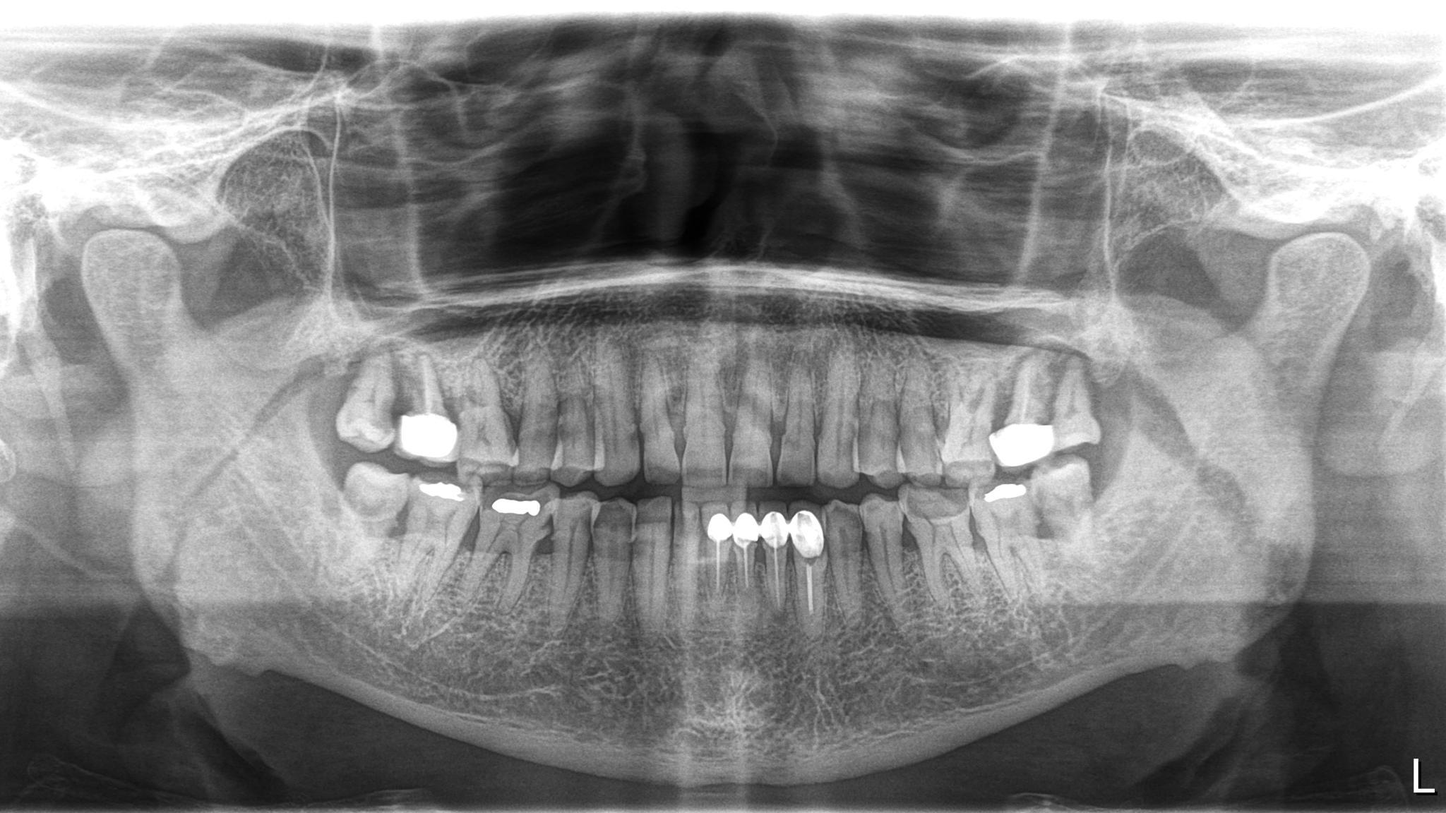Endodontically Treated Tooth: (415, 471, 467, 599), (996, 381, 1054, 471), (413, 355, 460, 461), (782, 513, 825, 622), (699, 505, 729, 613), (731, 505, 758, 620), (761, 512, 779, 622)
